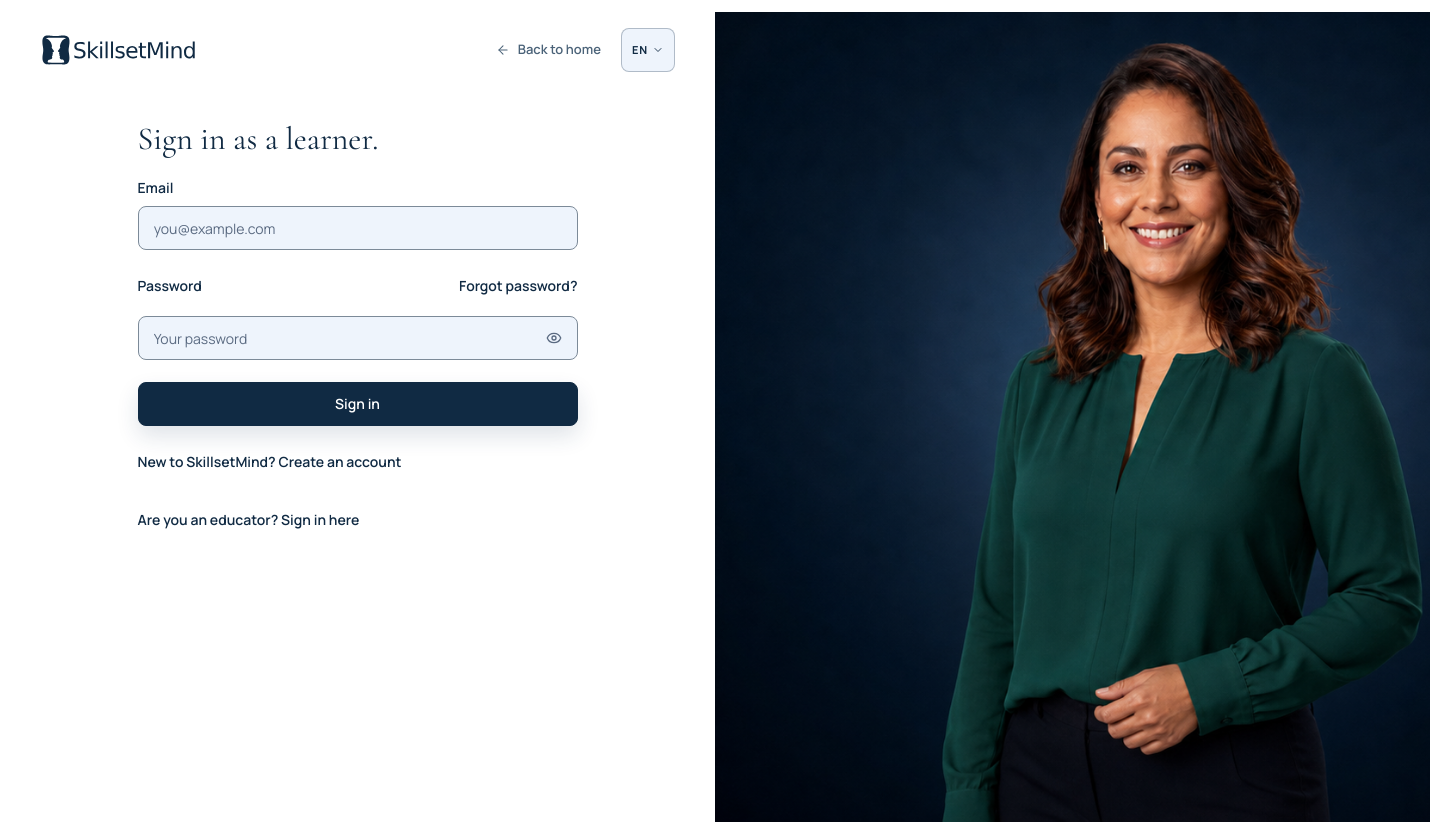
Test: auth flow follows the selected language without resetting state › changes language from the real auth header without discarding credentials
Type "alex@example.test" into the field labelled "Email" at (358, 228), box [138,206,578,250]
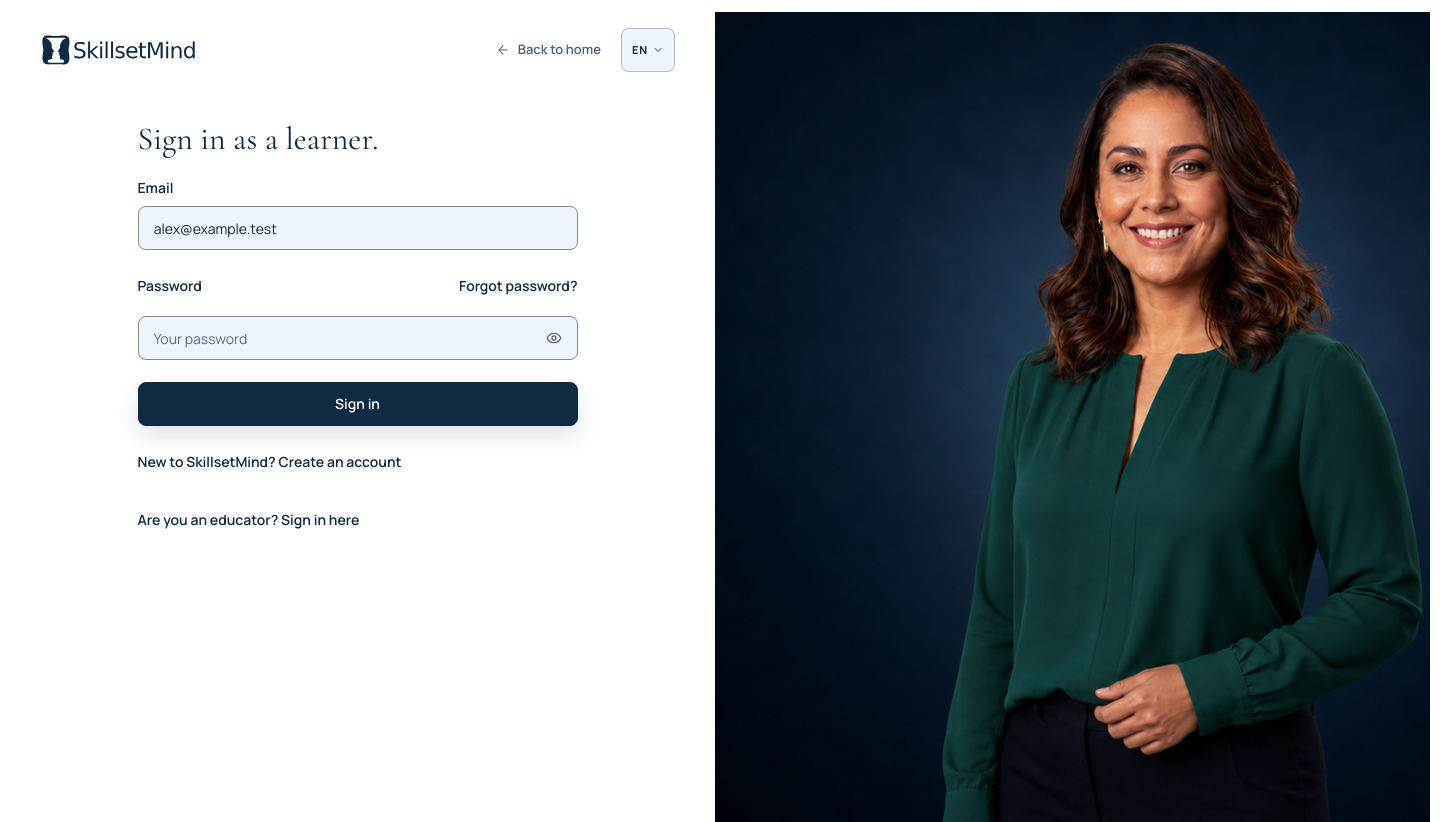
Type "unchanged-password" into the password field labelled "Password Forgot password?" at (358, 338), box [138,316,578,360]
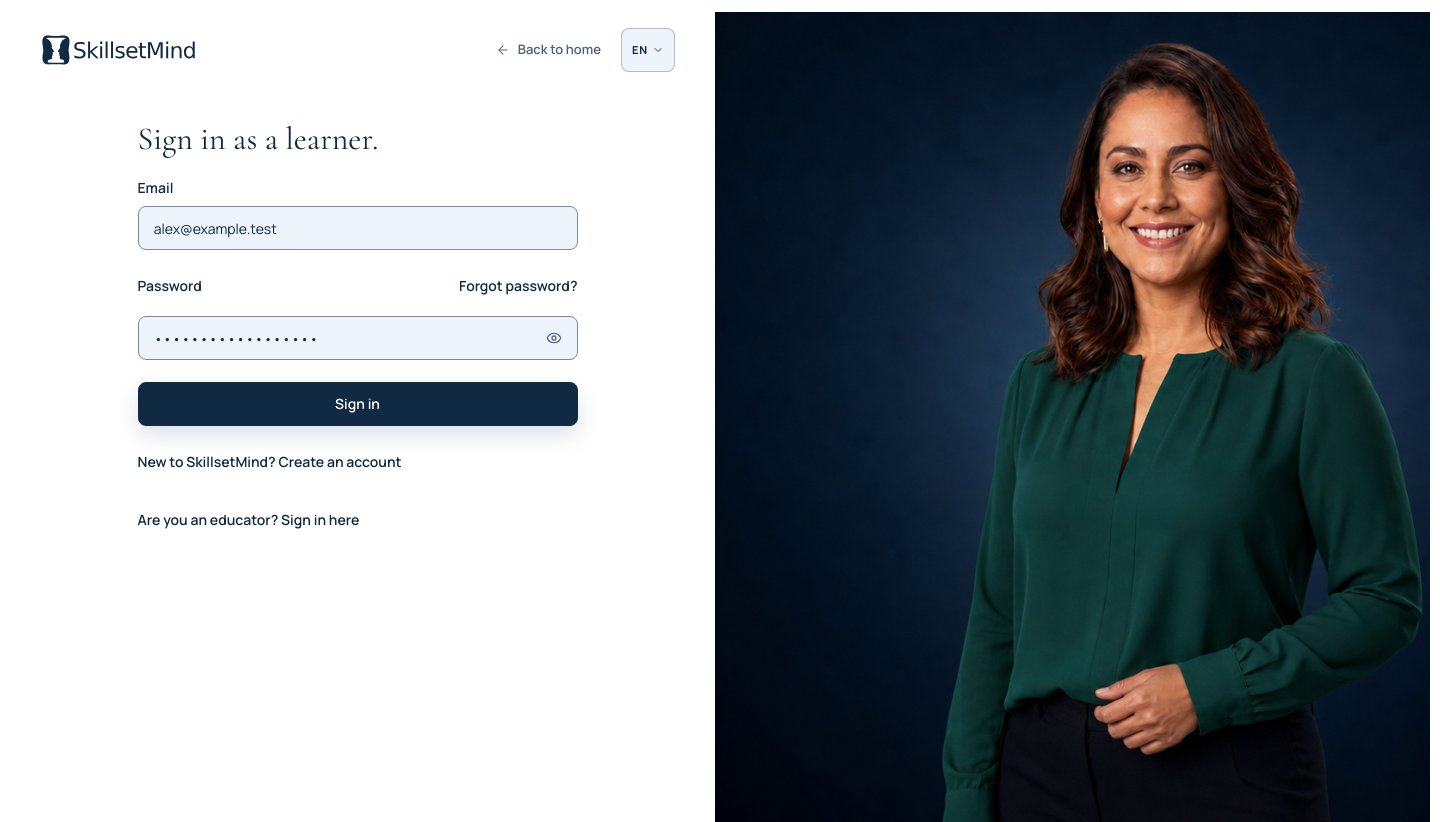
Click the button with aria-label "Language: English" at (648, 50), box [621,28,675,72]
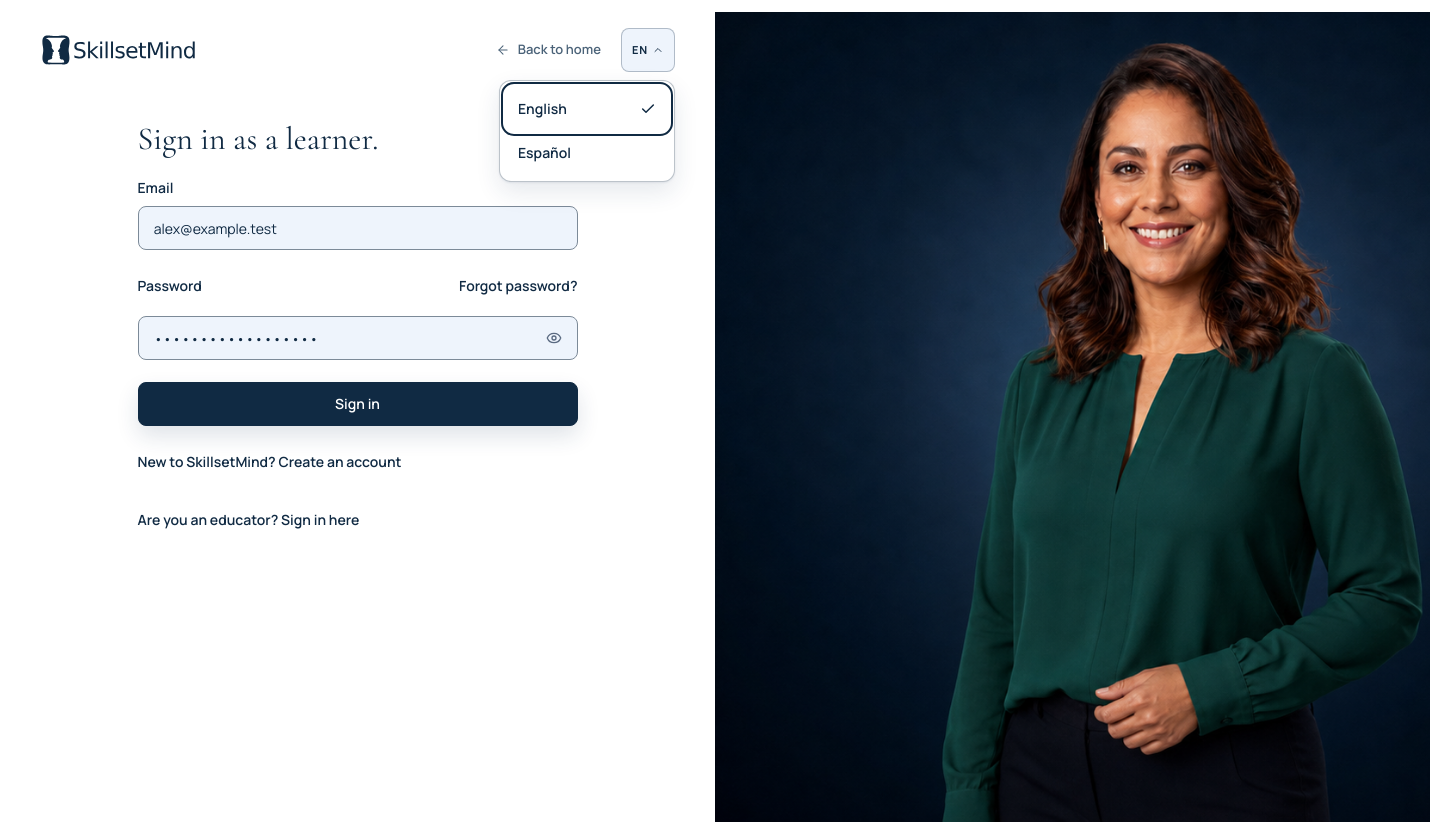
Click the option "Español" at (587, 153), box [506,131,668,175]
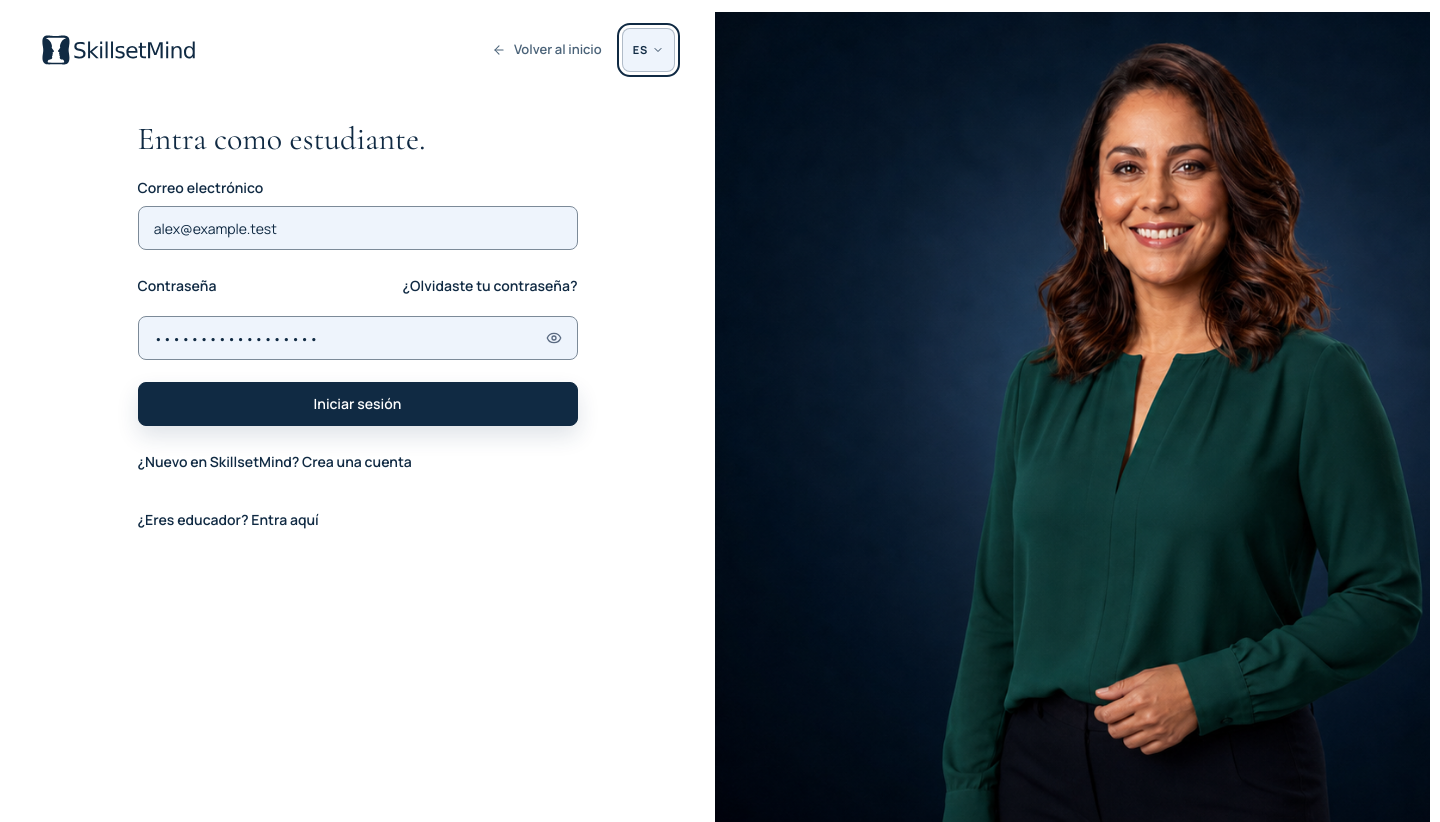
Result: the button with aria-label "Idioma: Español" is collapsed at [622,28,675,72]
